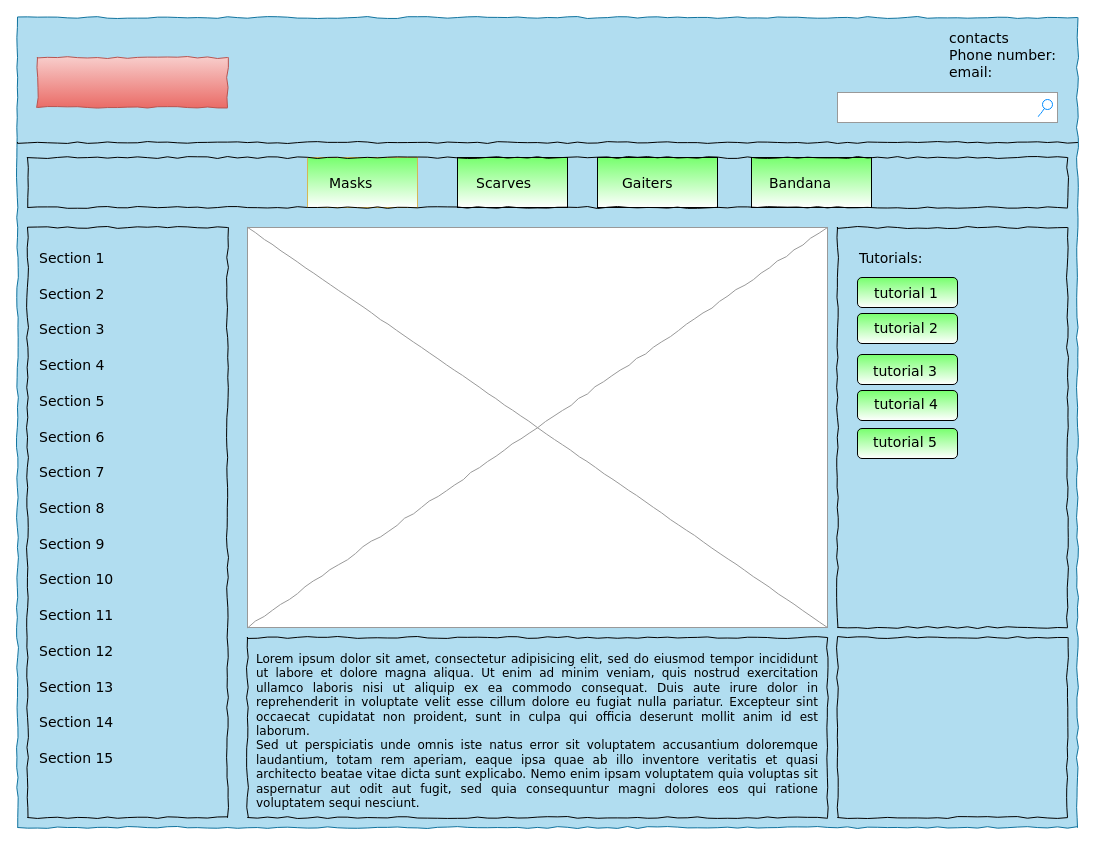
This 1095x845 diagram has some shape labels left out. The centre of each missing label's shape, as x and y in pixels:
"Google Map: physical address of the business" belongs at (952,727).
"maskshop" belongs at (132,82).
"Search" belongs at (947,107).
